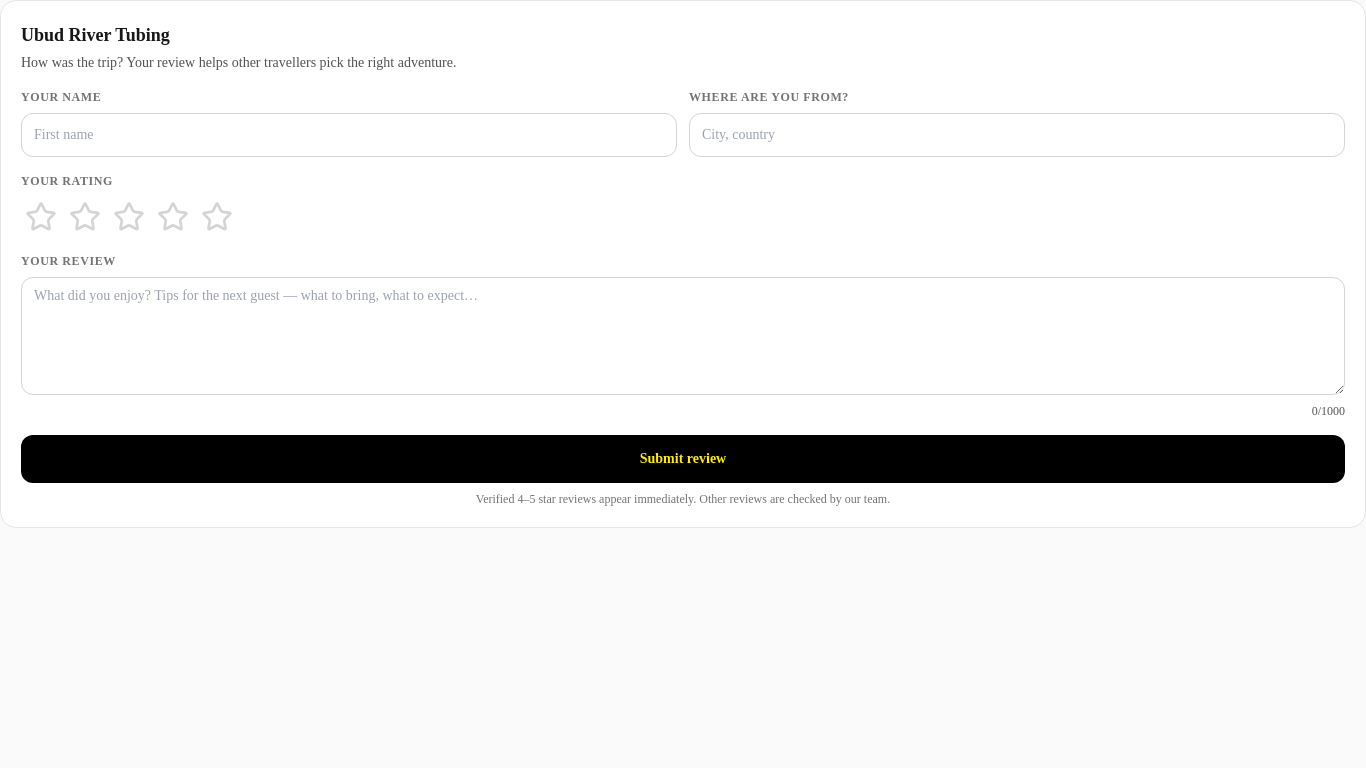
Test case: ReviewForm › requires a display name
Click the button named "5 stars" at (217, 217), box [197,197,237,237]
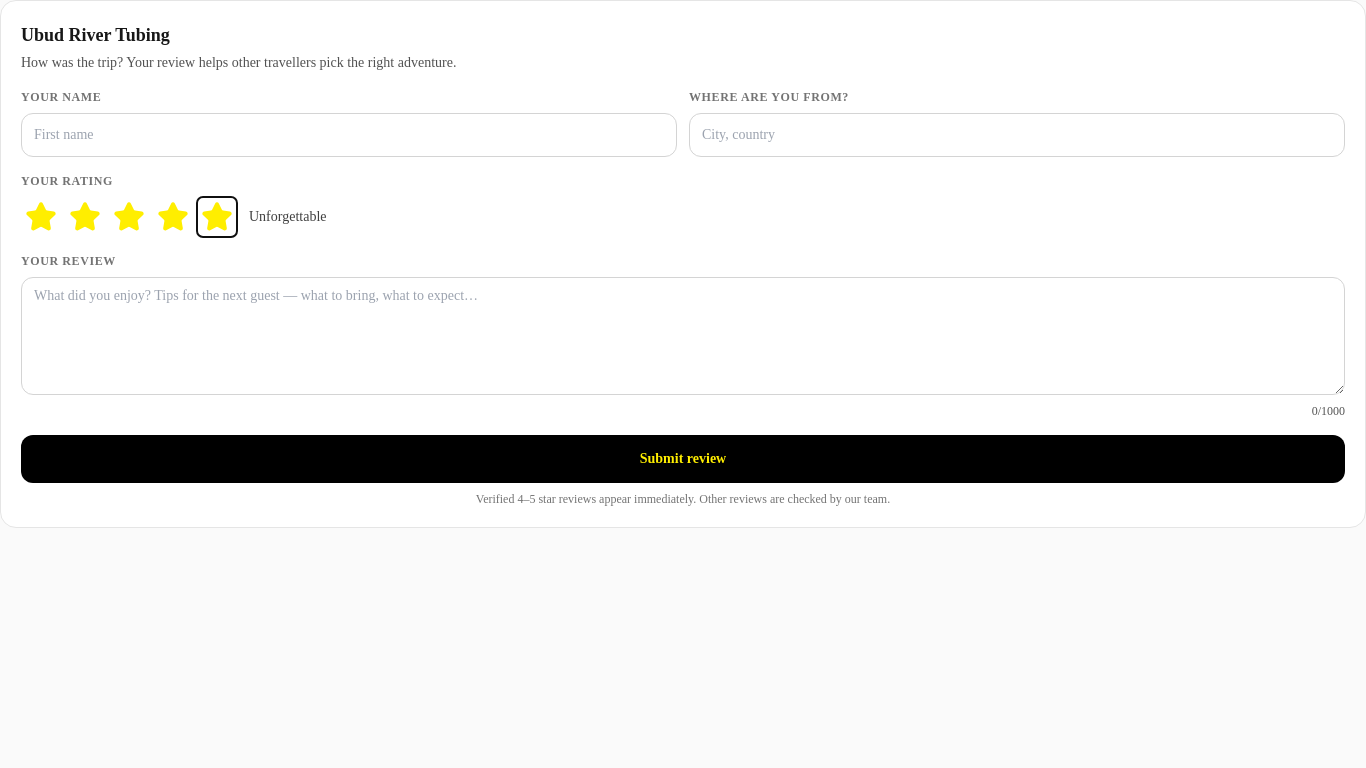
Type "So amazing! Would definitely recommend this trip to anyone visiting Bali." into the text box labelled "Your review" at (683, 336), box [21,277,1345,395]
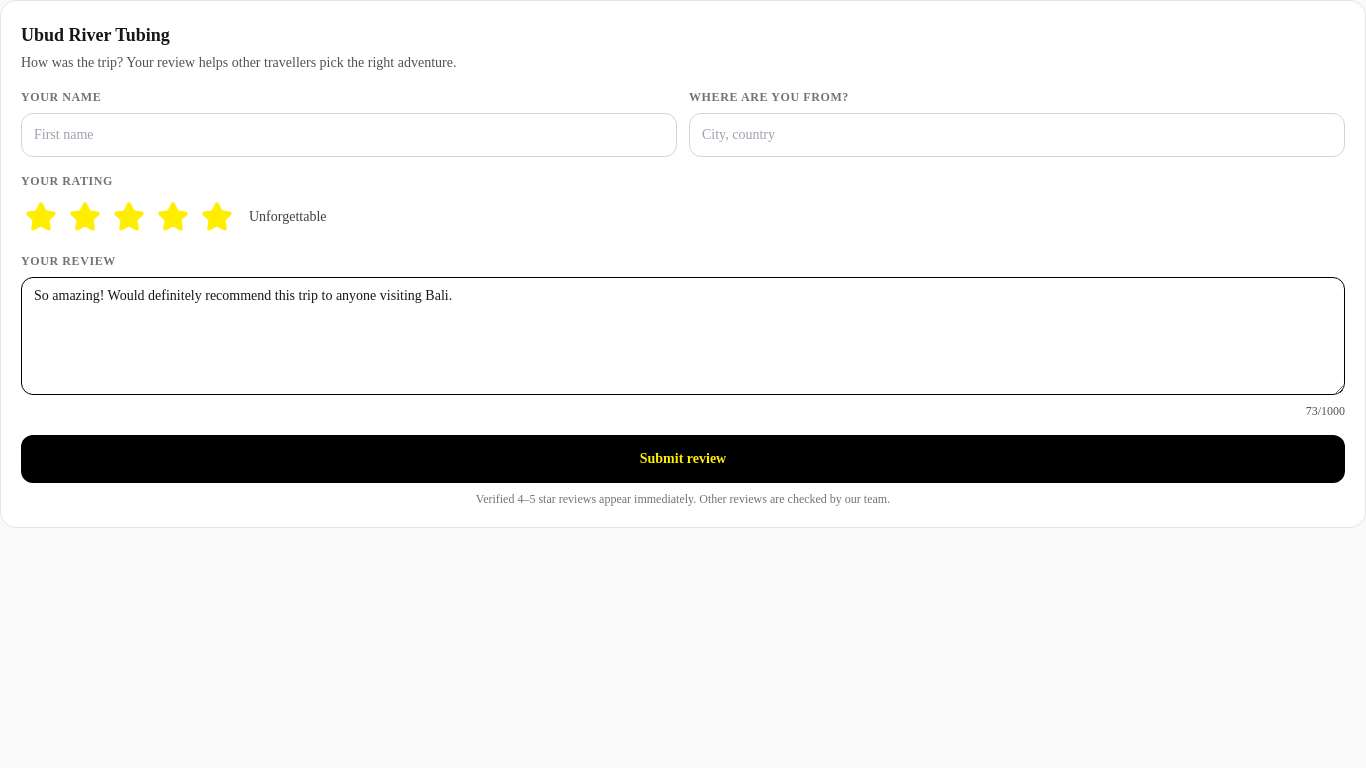
Submit the form
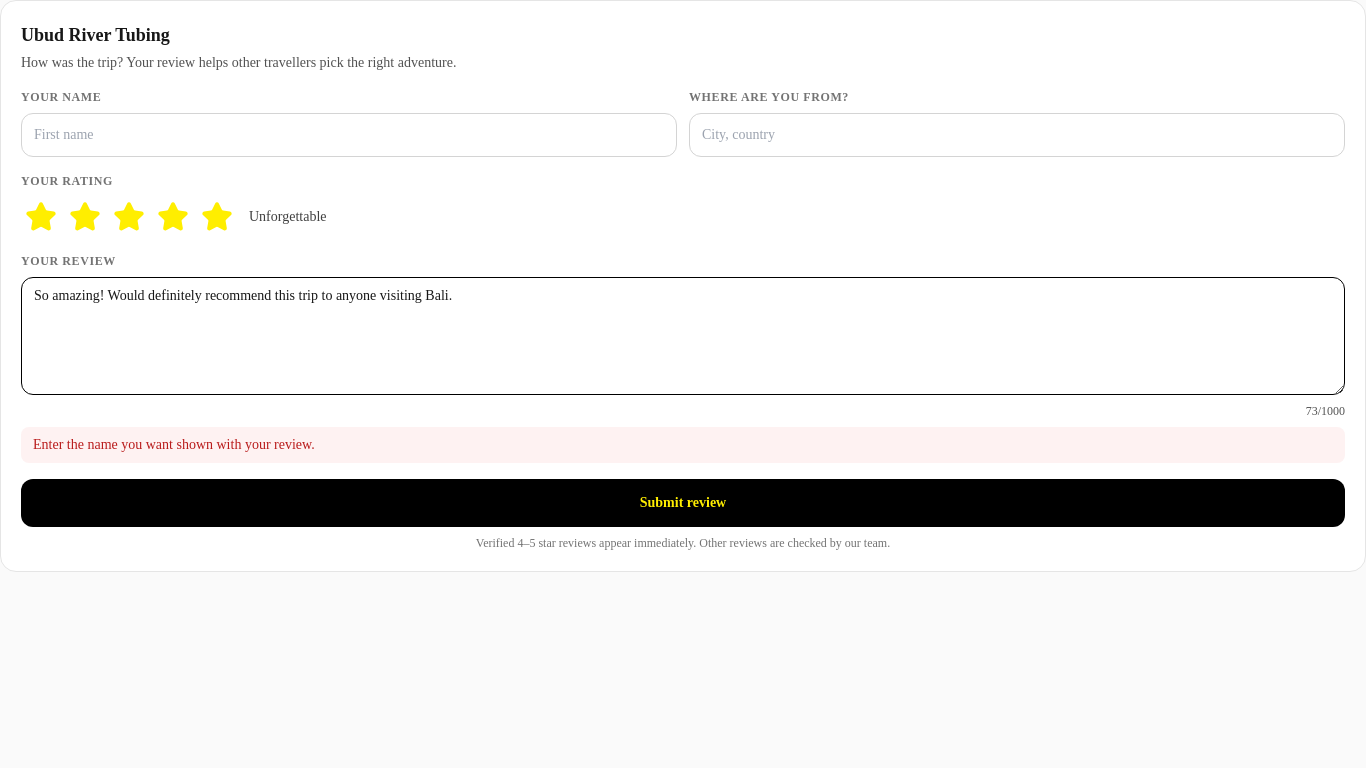
Check: the text "Enter the name you want shown with your review." is shown, box [21,427,1345,463]
